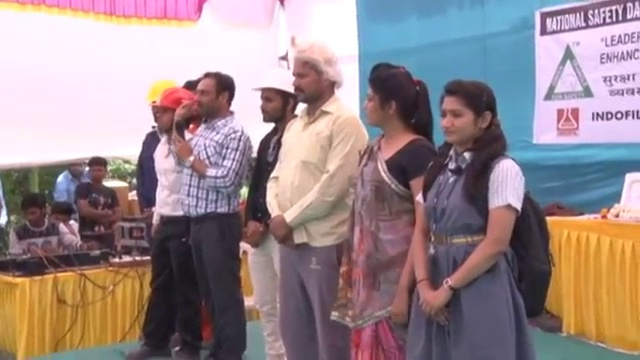helmet: (150, 86, 196, 114), (256, 68, 297, 96), (145, 80, 176, 105)
helmet_off: (433, 77, 504, 157), (362, 60, 426, 135), (285, 46, 345, 112), (184, 74, 237, 125), (19, 193, 49, 228), (48, 200, 76, 229), (86, 157, 109, 185), (65, 161, 87, 181)
helmet_on: (255, 68, 297, 130), (150, 86, 196, 136)
person: (409, 65, 558, 360), (262, 43, 368, 360), (340, 54, 436, 360), (171, 74, 252, 360), (123, 80, 196, 360), (241, 64, 301, 358), (9, 192, 89, 259), (73, 156, 120, 246), (54, 162, 91, 206)
